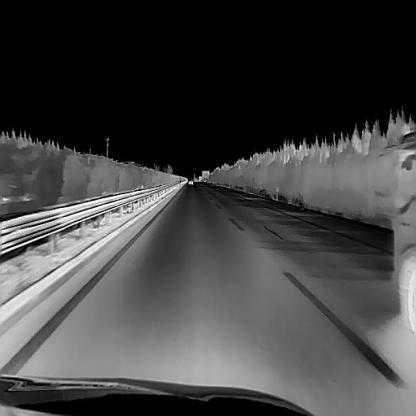car: (187, 176, 193, 184)
